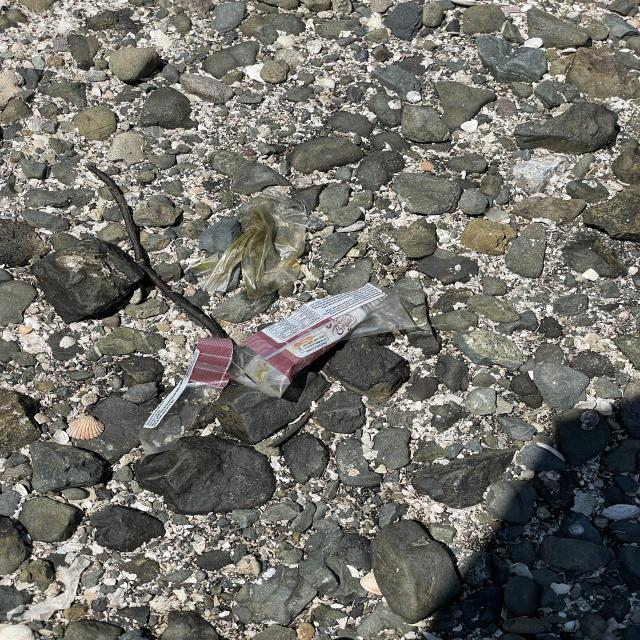plastic_waste: (229, 277, 425, 396), (188, 196, 319, 304)
